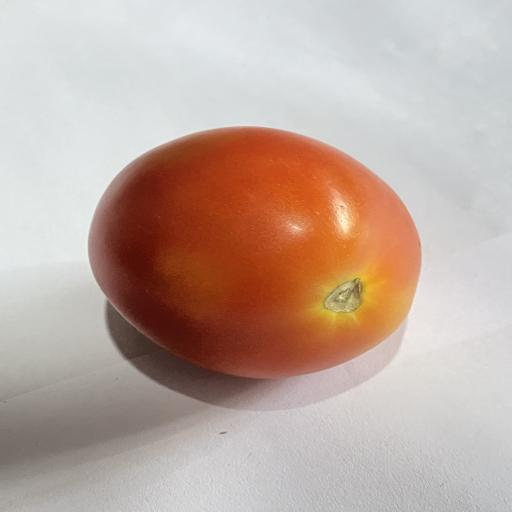ripe: (89, 127, 421, 378)
